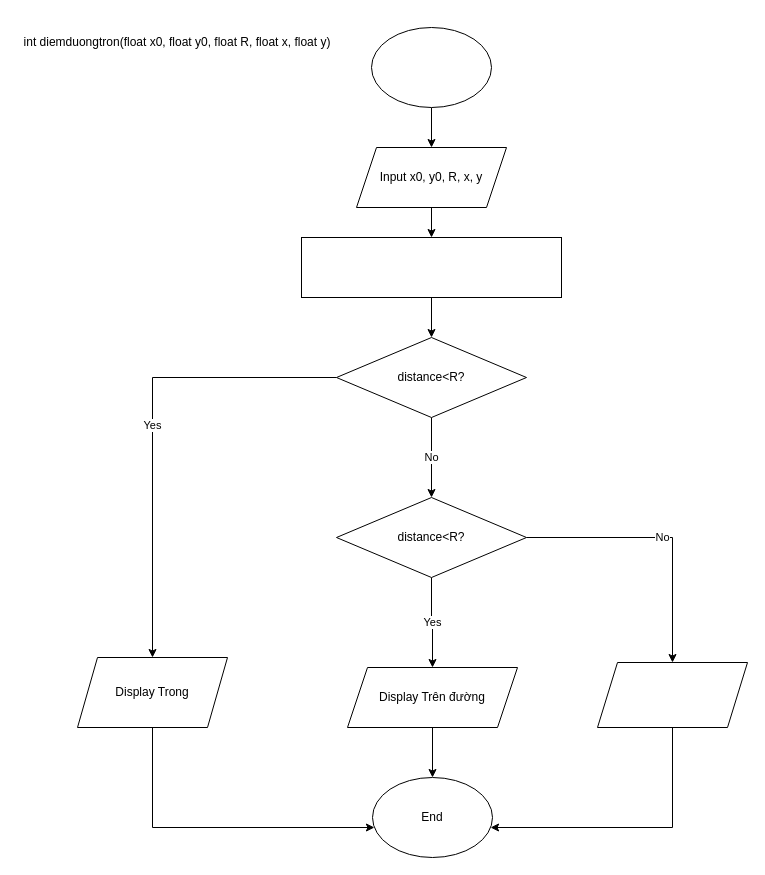
Image size: 765x875. Some labels were removed from this diagram. Here are the shapes that lost their labels. From the top down, the box of each, then its label:
(370, 26, 492, 108): Start
(300, 236, 562, 298): distance = sqrt(pow((x - x0)^2 + pow(y - y0)^ 2)
(596, 662, 748, 728): Display Ngoài
